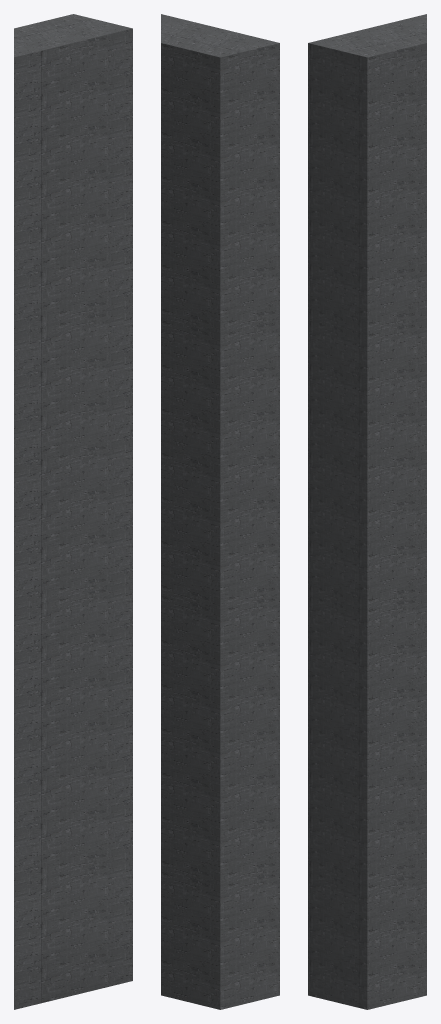
Rendered from Hexx_Wall_Section.fbx.
3 renders of one model, left to right at view 1: azimuth 90°, elevation 25°; view 2: azimuth 210°, elevation 25°; view 3: azimuth 270°, elevation 25°, orthographic.
Parts seen in each view (by area): view 1: TileHex1.004; view 2: TileHex1.004; view 3: TileHex1.004.
Boxes of the visible parts, x1,y1,x2,y2 form: TileHex1.004: (14, 14, 132, 1009); TileHex1.004: (161, 14, 279, 1009); TileHex1.004: (308, 14, 426, 1009).
Bounding box in the file's own units: 44.06 × 450 × 50.92.
Materials: 1 (1 with a texture image).
